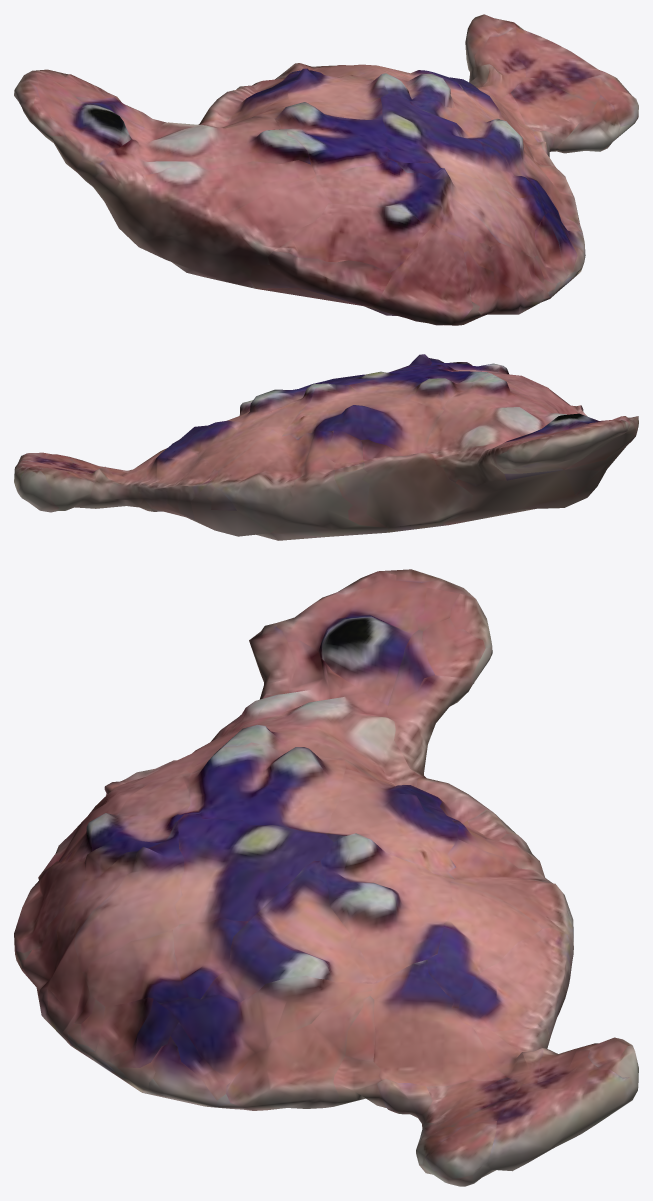
File: hall.glb
3 renders of one model, top to bottom at view 1: azimuth 30°, elevation 25°; view 2: azimuth 150°, elevation 25°; view 3: azimuth 270°, elevation 25°, orthographic. The views are drawn at different scales.
Bounding box in the file's own units: 0.923 × 0.2842 × 0.6316.
Materials: 1 (1 with a texture image).
